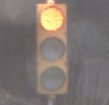Red: (34, 3, 71, 96)
